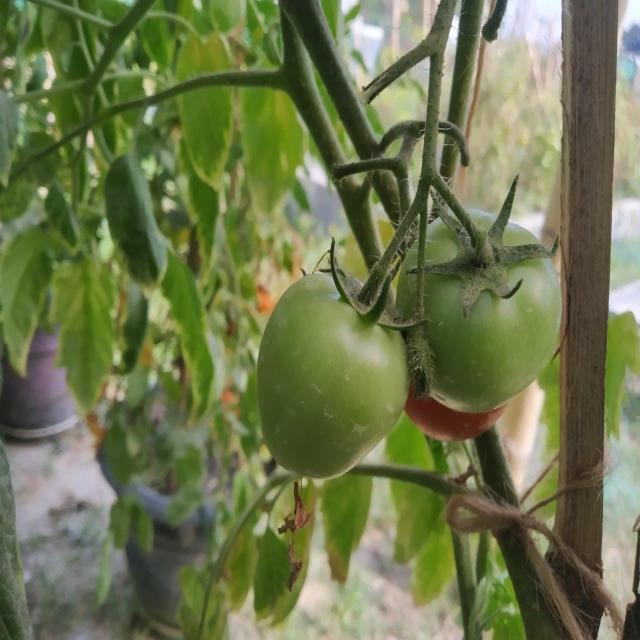Unripe: (399, 208, 559, 415), (255, 266, 408, 476)
